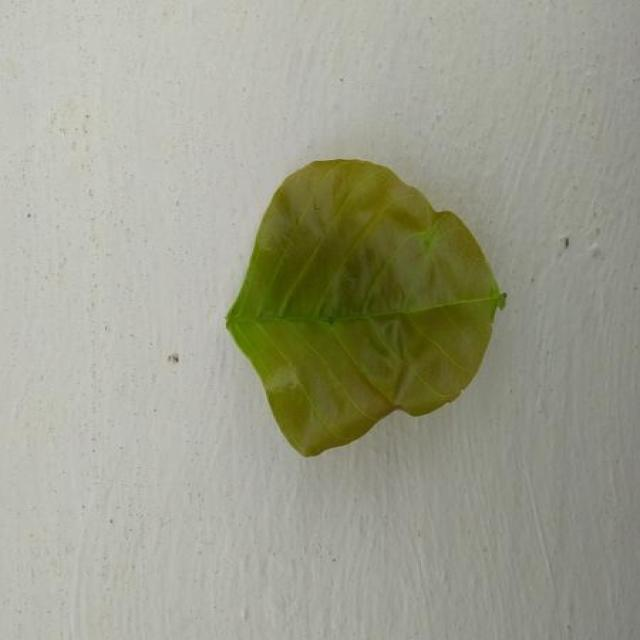honge: (227, 159, 505, 456)
leaf rust: (245, 160, 437, 317)
